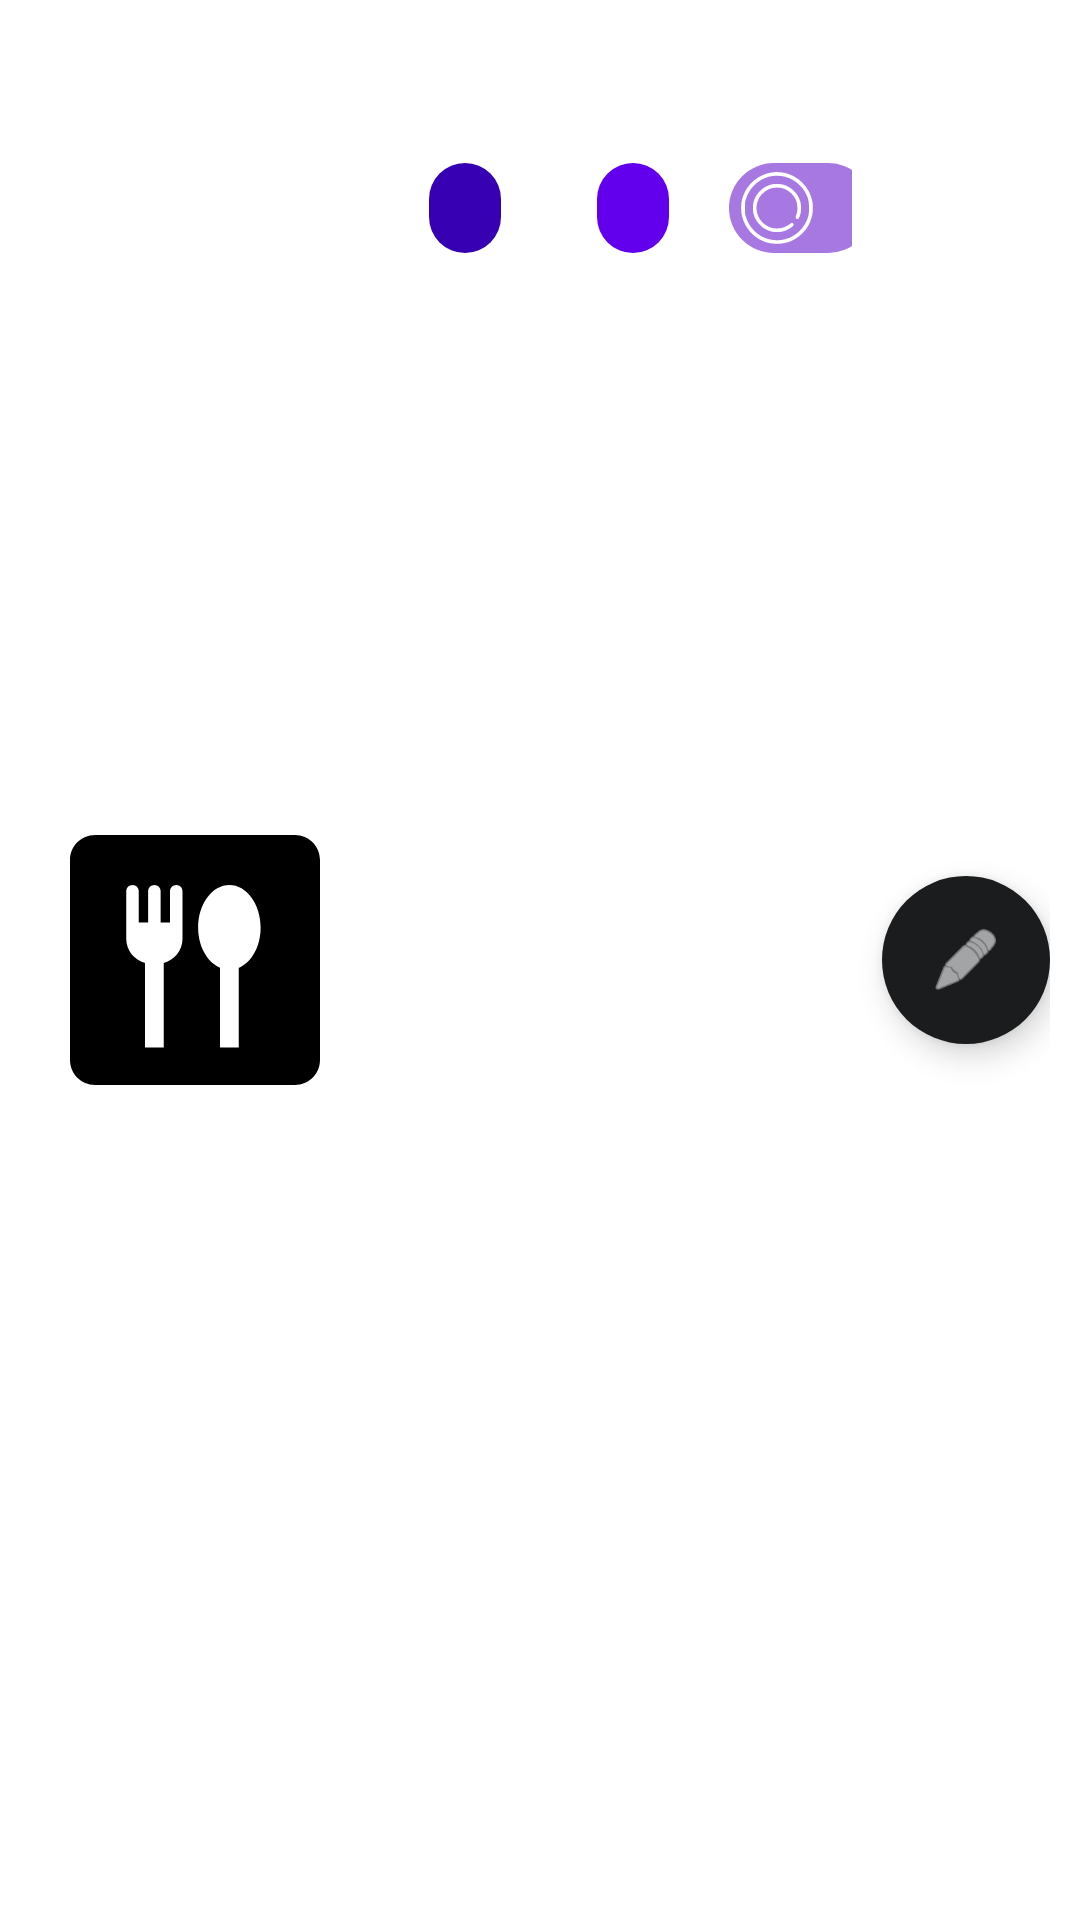

Screen size 1080px×1920px. Icon name, then its center in pixels as (x,y):
dining: (195,960)
edit: (966,960)
